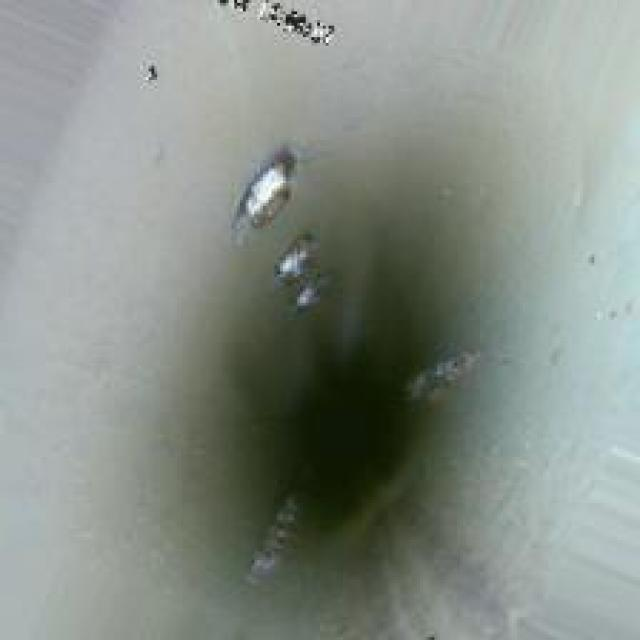ferrule: (237, 160, 289, 220), (277, 237, 303, 272), (297, 277, 326, 303)
